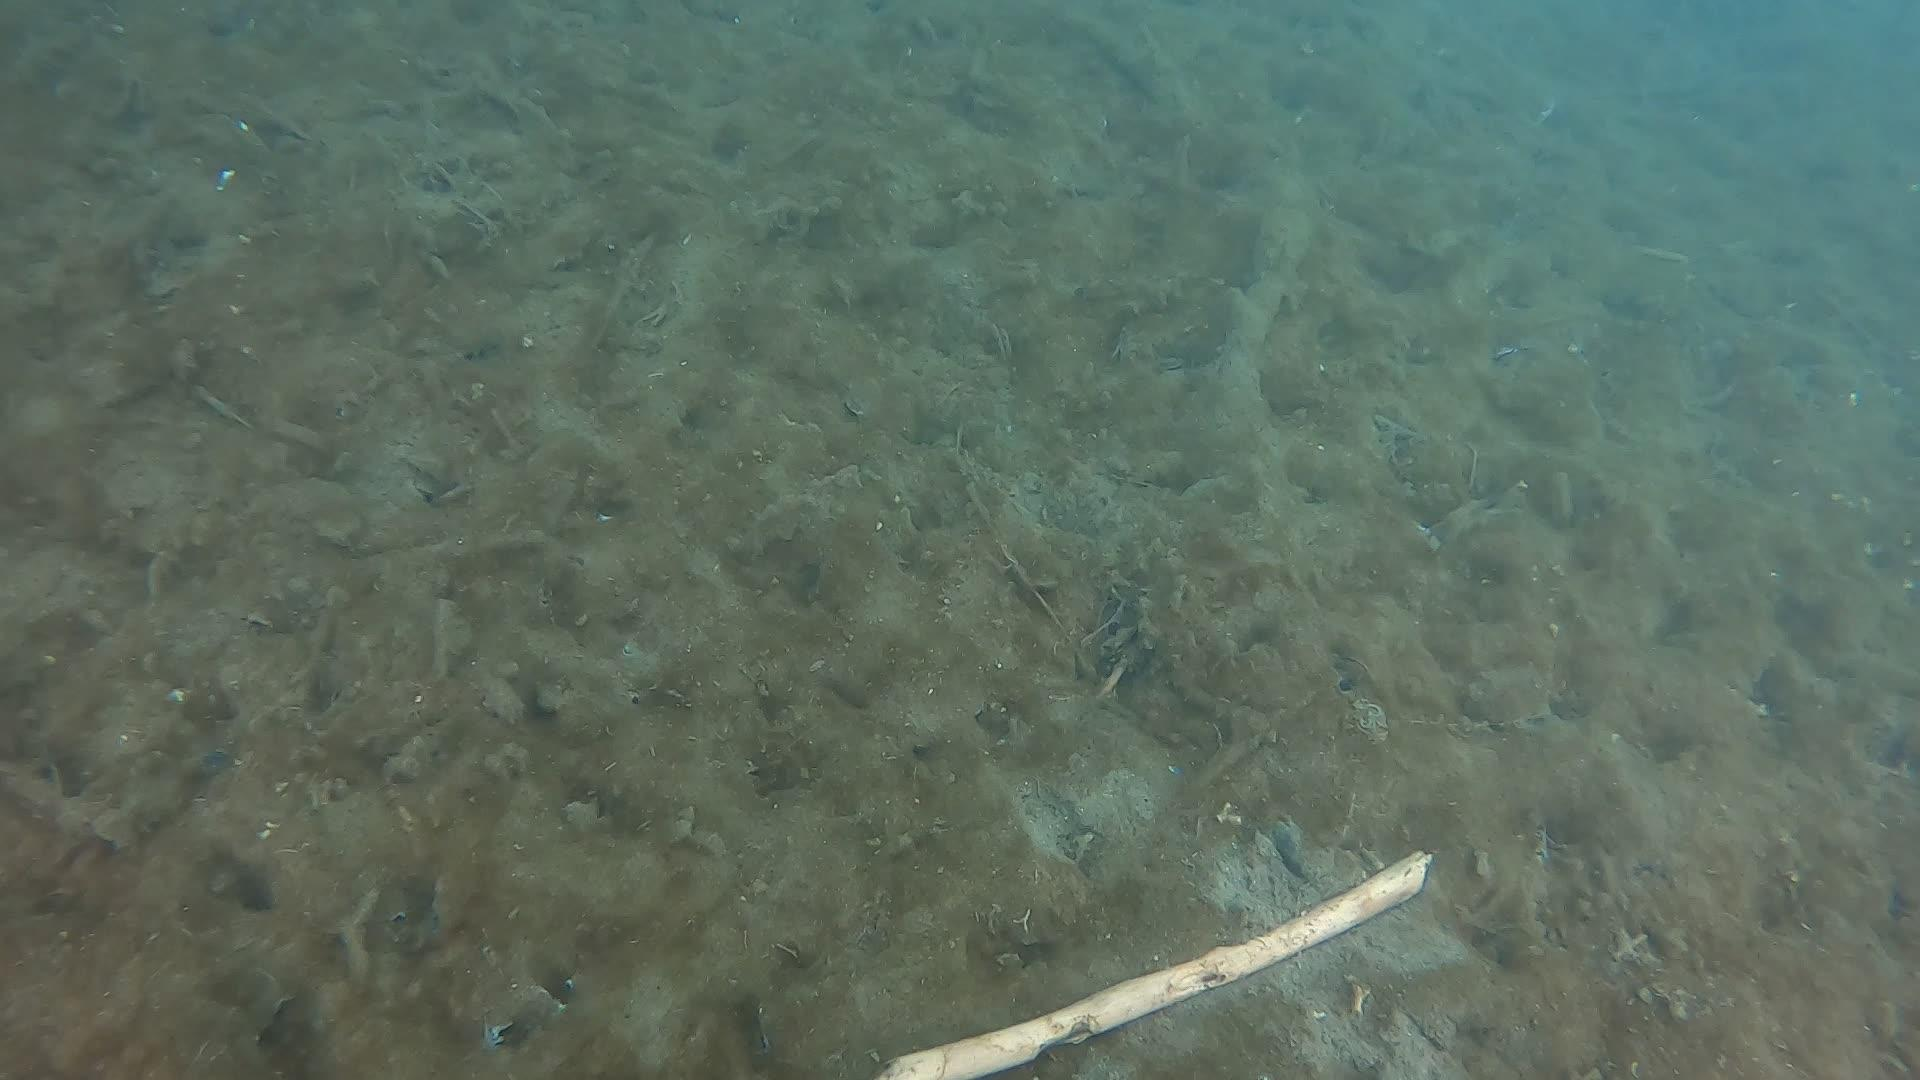wood: (884, 848, 1432, 1080)
